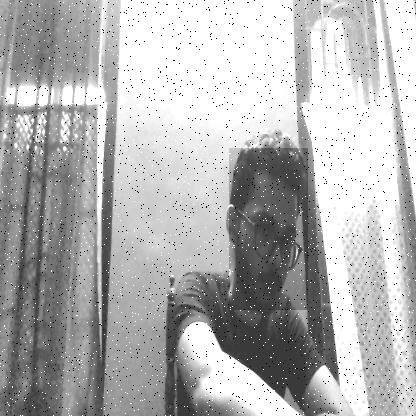Distracted: (229, 148, 308, 310)
